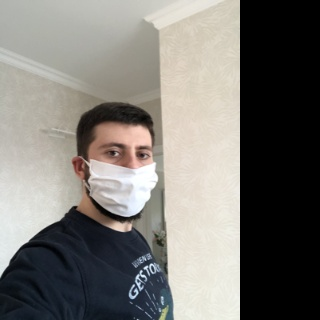with_mask: (88, 132, 159, 224)
